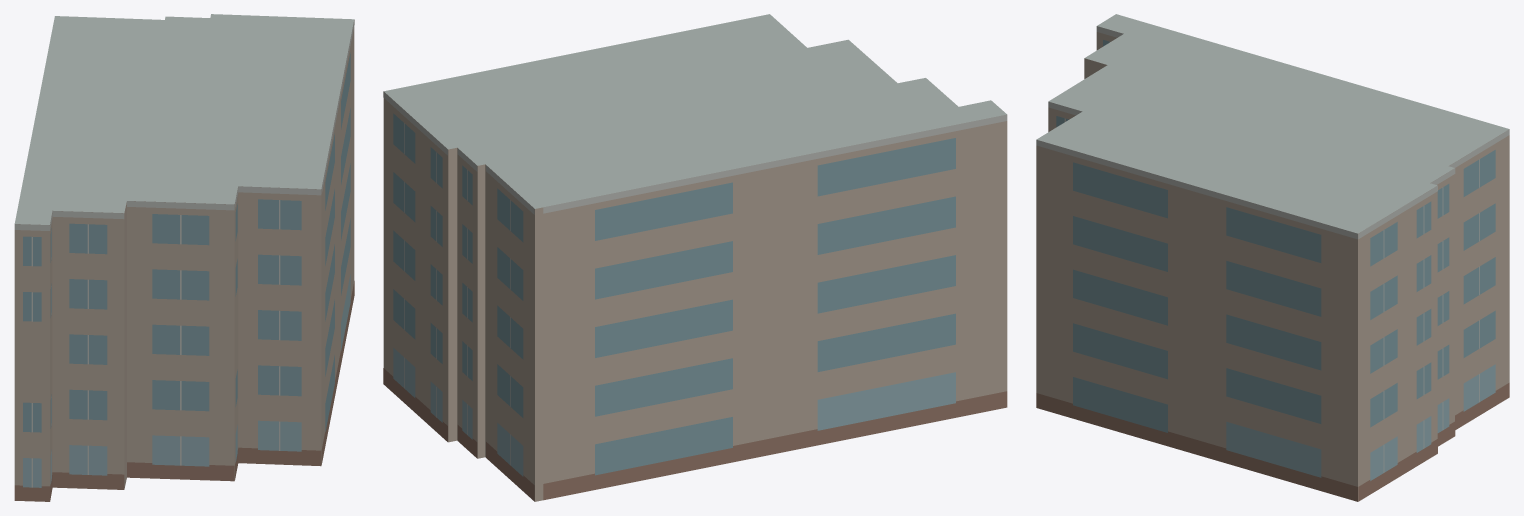
The model's file is survey-upis-32475245.glb.
The picture shows the model from 3 angles, left to right: view 1: azimuth 30°, elevation 25°; view 2: azimuth 150°, elevation 25°; view 3: azimuth 270°, elevation 25°; orthographic projection. The views are drawn at different scales.
Parts seen in each view (by area): view 1: survey-upis-32475245.tmp; view 2: survey-upis-32475245.tmp; view 3: survey-upis-32475245.tmp.
Boxes of the visible parts, x1=… form: survey-upis-32475245.tmp: x1=14, y1=14, x2=354, y2=501; survey-upis-32475245.tmp: x1=383, y1=14, x2=1007, y2=501; survey-upis-32475245.tmp: x1=1036, y1=14, x2=1509, y2=501.
Size of the model in its own units: 19.68 by 11.2 by 17.92.
